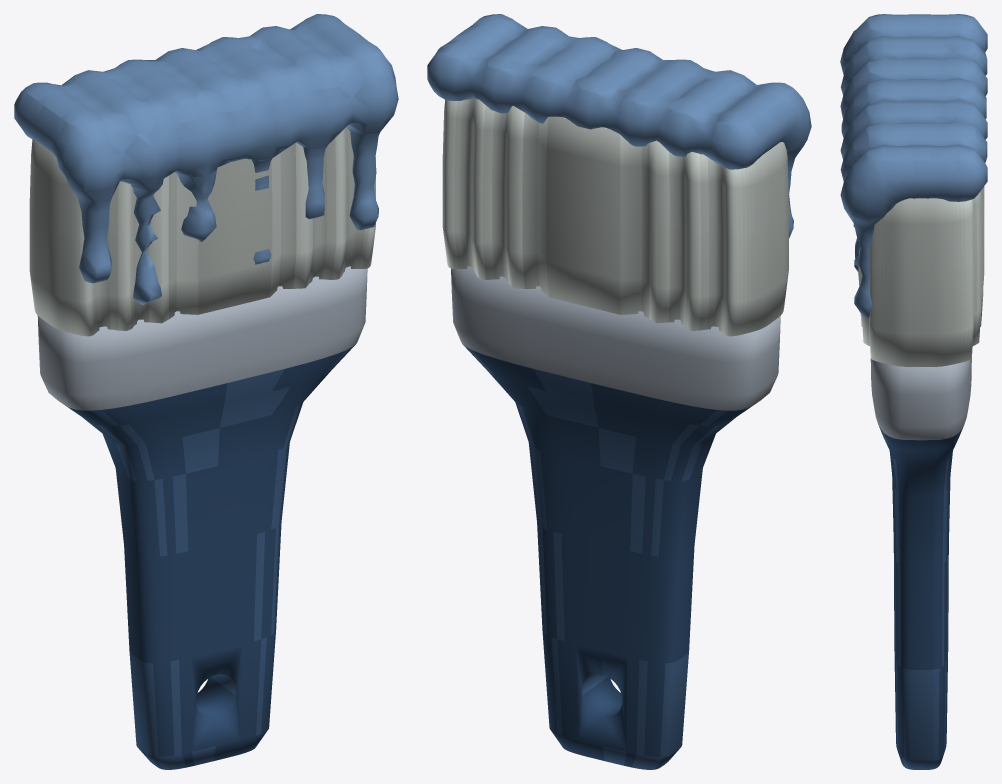
File: Paintbrush_Croc.glb
3 views of the same model, side by side, from view 1: azimuth 30°, elevation 25°; view 2: azimuth 150°, elevation 25°; view 3: azimuth 270°, elevation 25° (orthographic). The views are drawn at different scales.
Parts seen in each view (by area): view 1: Body, Paint, Bristles; view 2: Body, Bristles, Paint; view 3: Paint, Body, Bristles.
Part boxes in pixels (x1,y1,x2,y2): Body: [37, 266, 367, 769]; Paint: [14, 14, 398, 305]; Bristles: [29, 127, 375, 336]; Body: [451, 266, 780, 769]; Bristles: [442, 98, 788, 336]; Paint: [427, 14, 811, 238]; Paint: [840, 14, 987, 318]; Body: [870, 358, 971, 769]; Bristles: [858, 186, 984, 366].
Size of the model in its own units: 1.23 by 2.44 by 0.4919.
